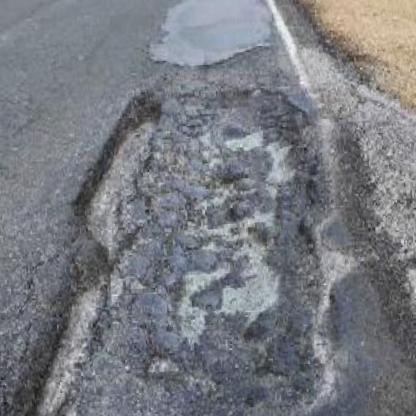pothole: (48, 79, 349, 416)
